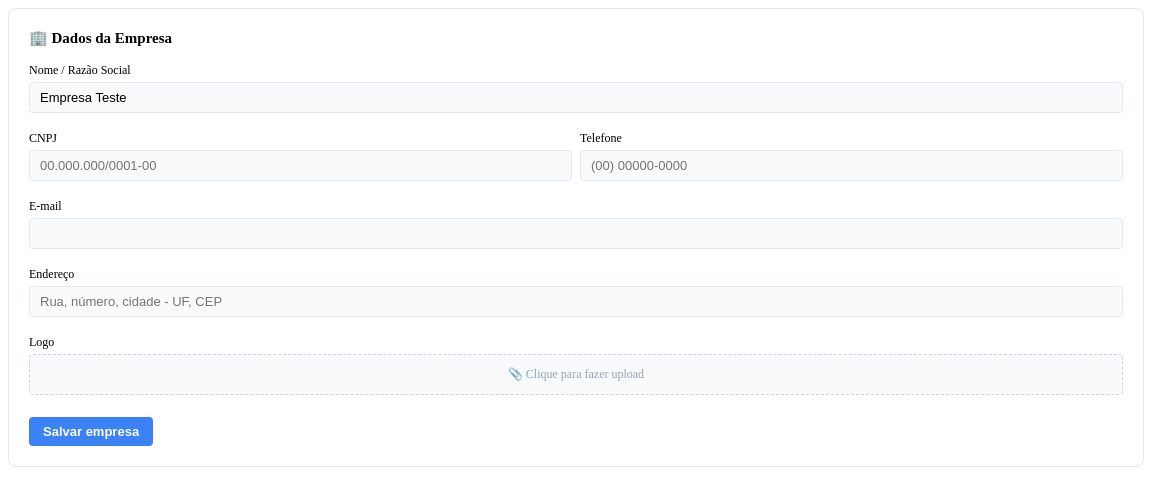
Test: EmpresaCard — validação › shows error for invalid email
Expected: the field showing "Empresa Teste" below "Nome / Razão Social" is shown, [29, 82, 1123, 113]
Step 1. Type "nao-e-email" into the field below "E-mail" → point(576, 234), box [29, 218, 1123, 249]
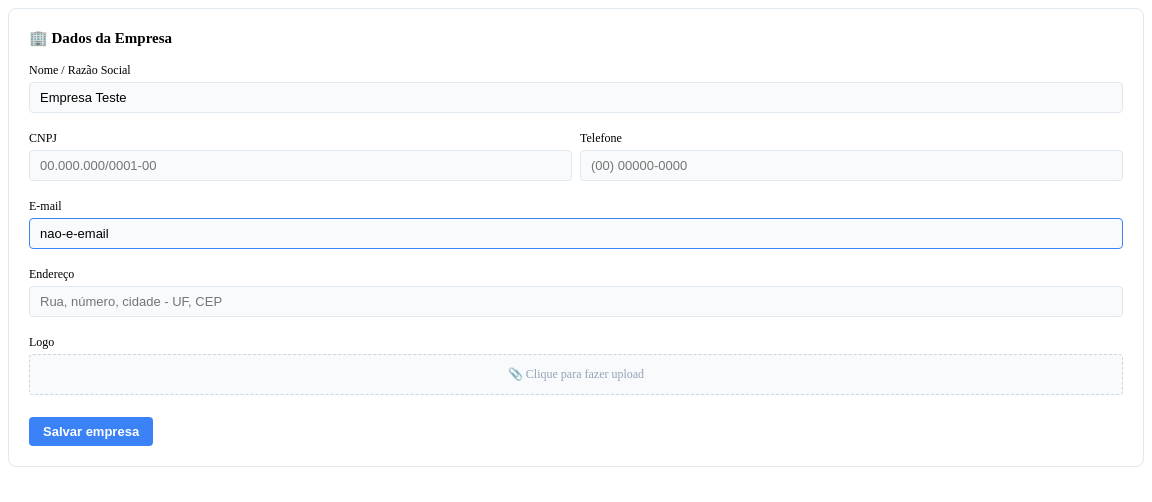
Step 2. Click the button "Salvar empresa" → point(91, 432), box [29, 417, 153, 446]
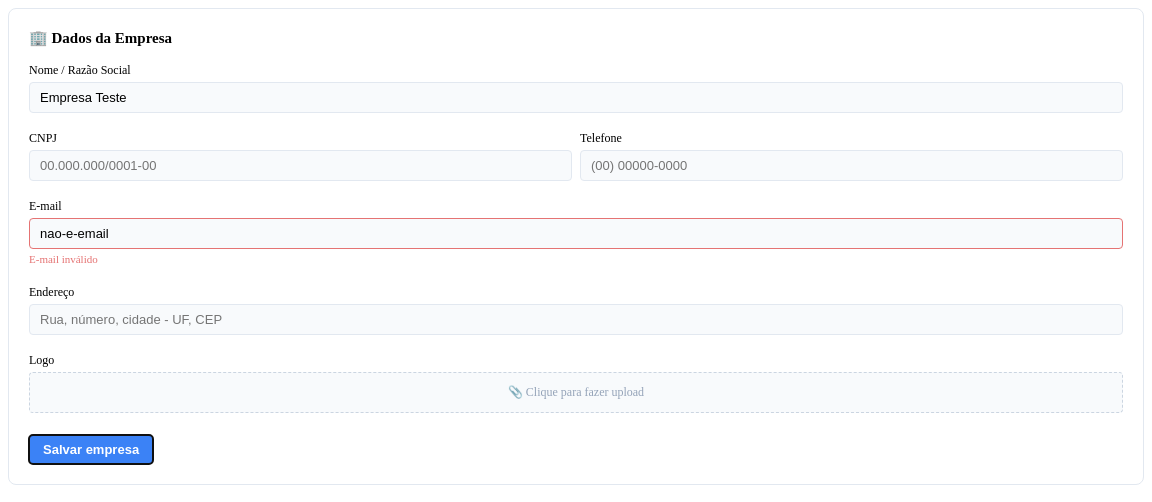
Result: the text "E-mail inválido" is shown at [29, 253, 98, 265]
